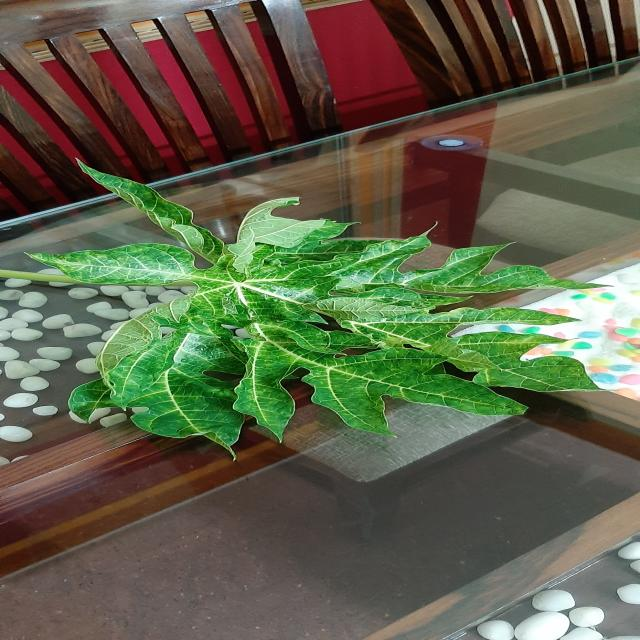leaf spot: (30, 165, 596, 448)
